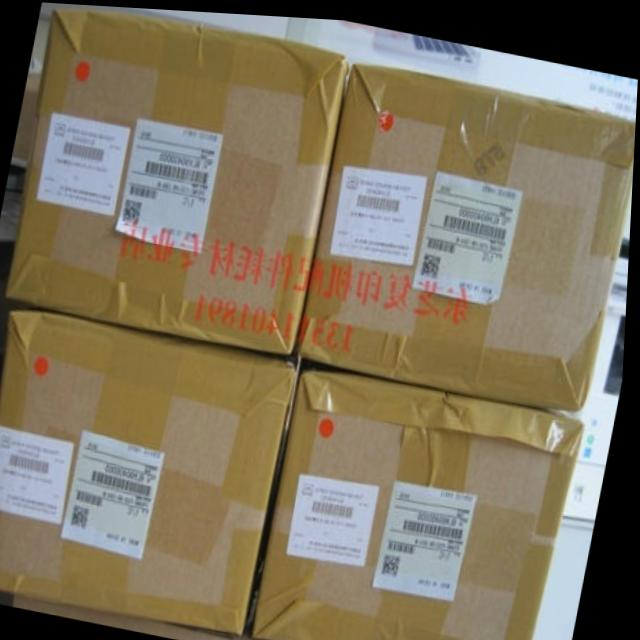box: (6, 2, 354, 360), (298, 56, 637, 404), (0, 301, 303, 633), (257, 351, 594, 640), (16, 594, 290, 640)
